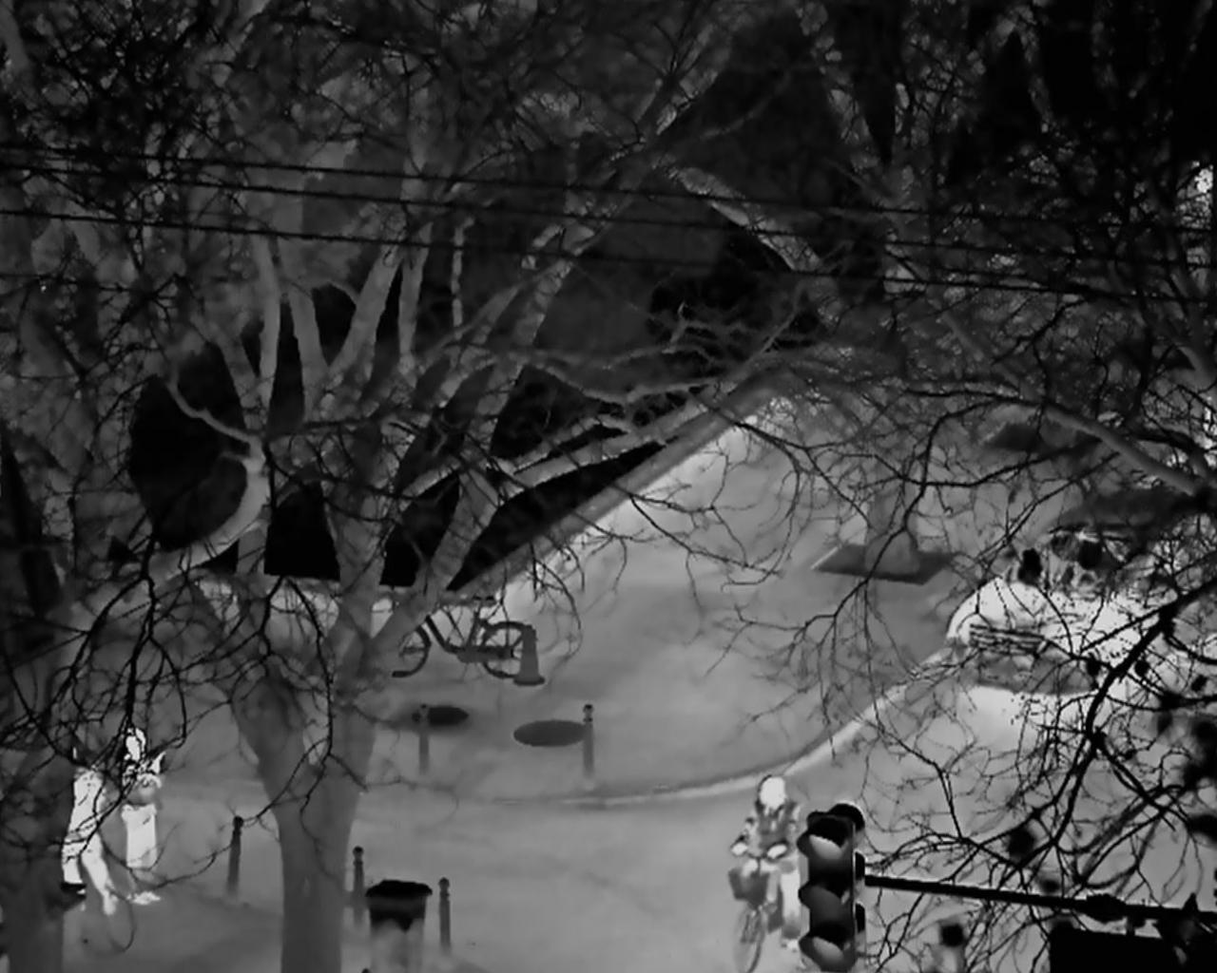person: (728, 772, 799, 955), (120, 729, 171, 909), (62, 764, 114, 918)
